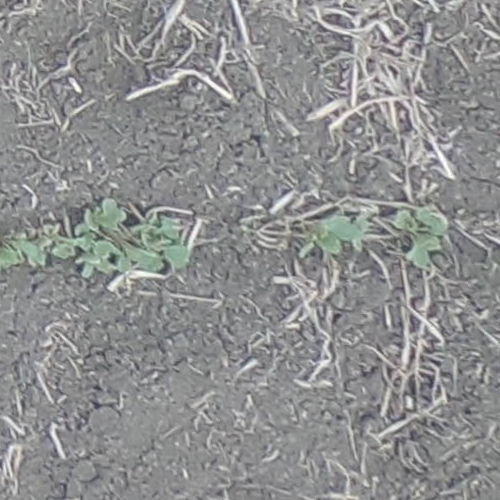plant: (0, 227, 120, 276), (393, 210, 451, 272), (120, 231, 190, 274), (312, 216, 358, 254), (83, 197, 120, 233)
